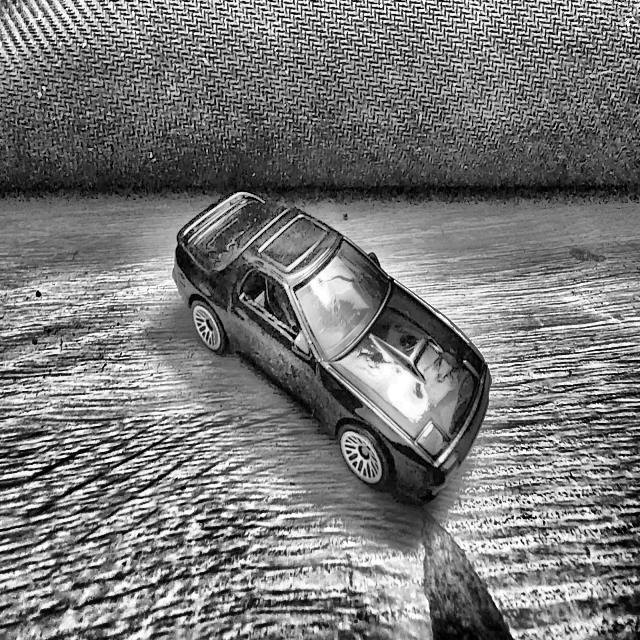car: (172, 190, 492, 505)
